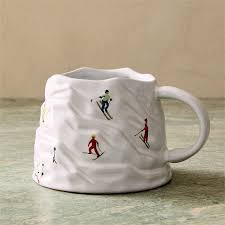mug: (33, 63, 214, 192)
